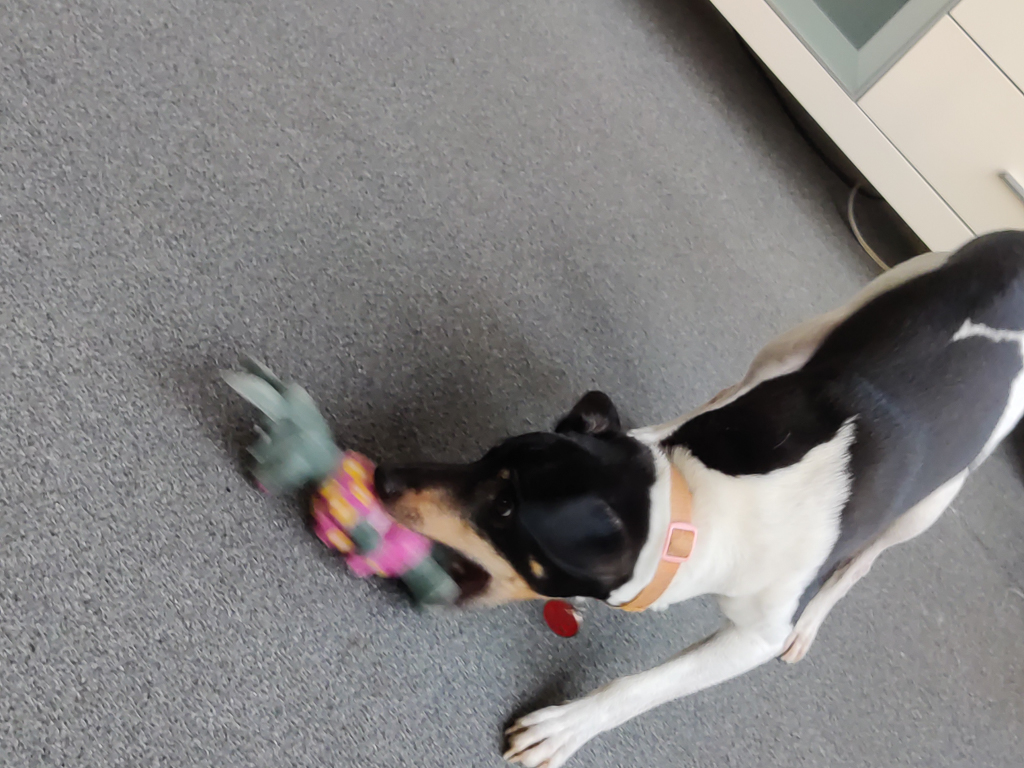Dog: (350, 220, 1024, 768)
Humanoid: (210, 339, 487, 626)
